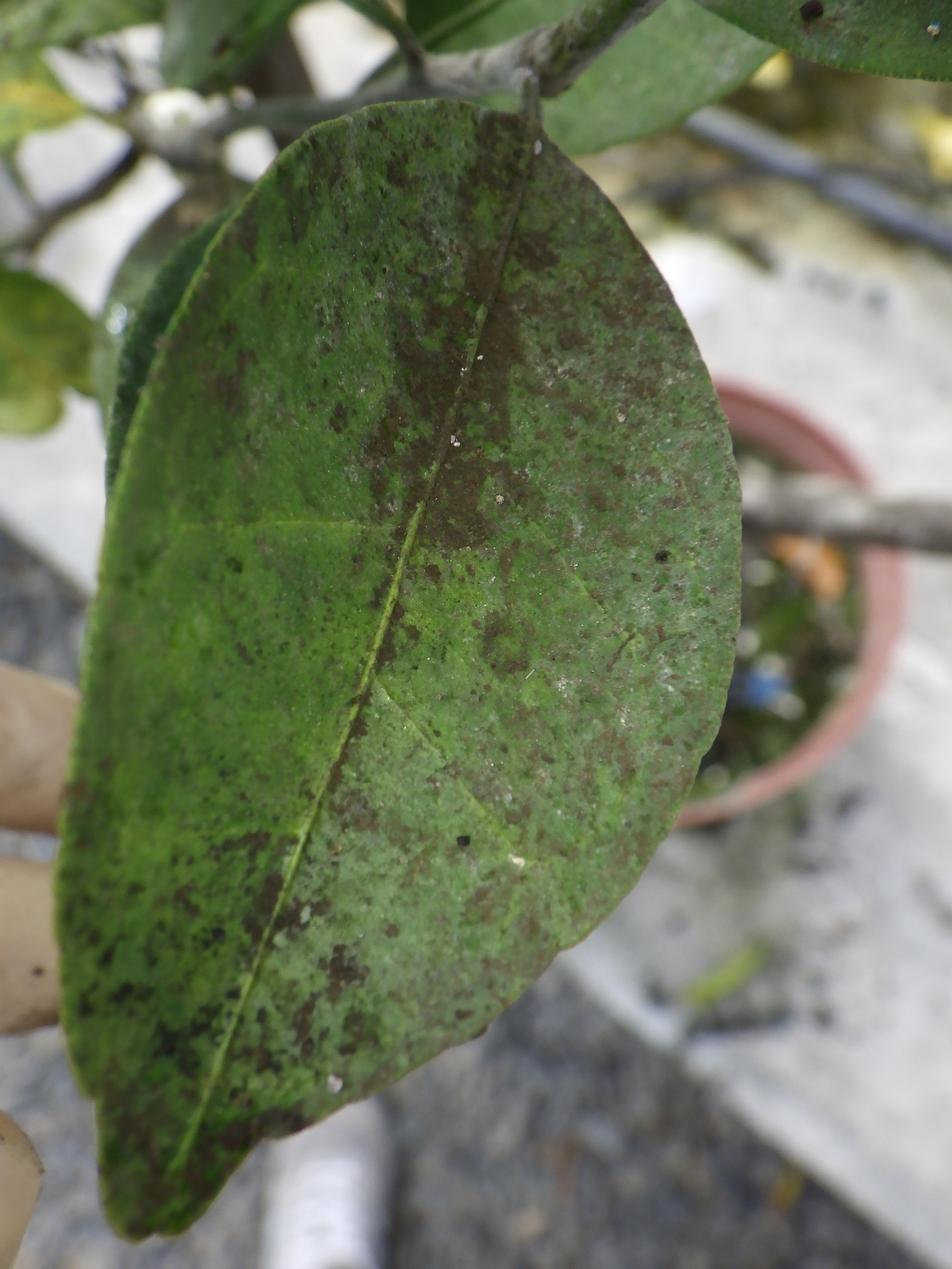Sooty_Mold: (58, 102, 739, 1239)
